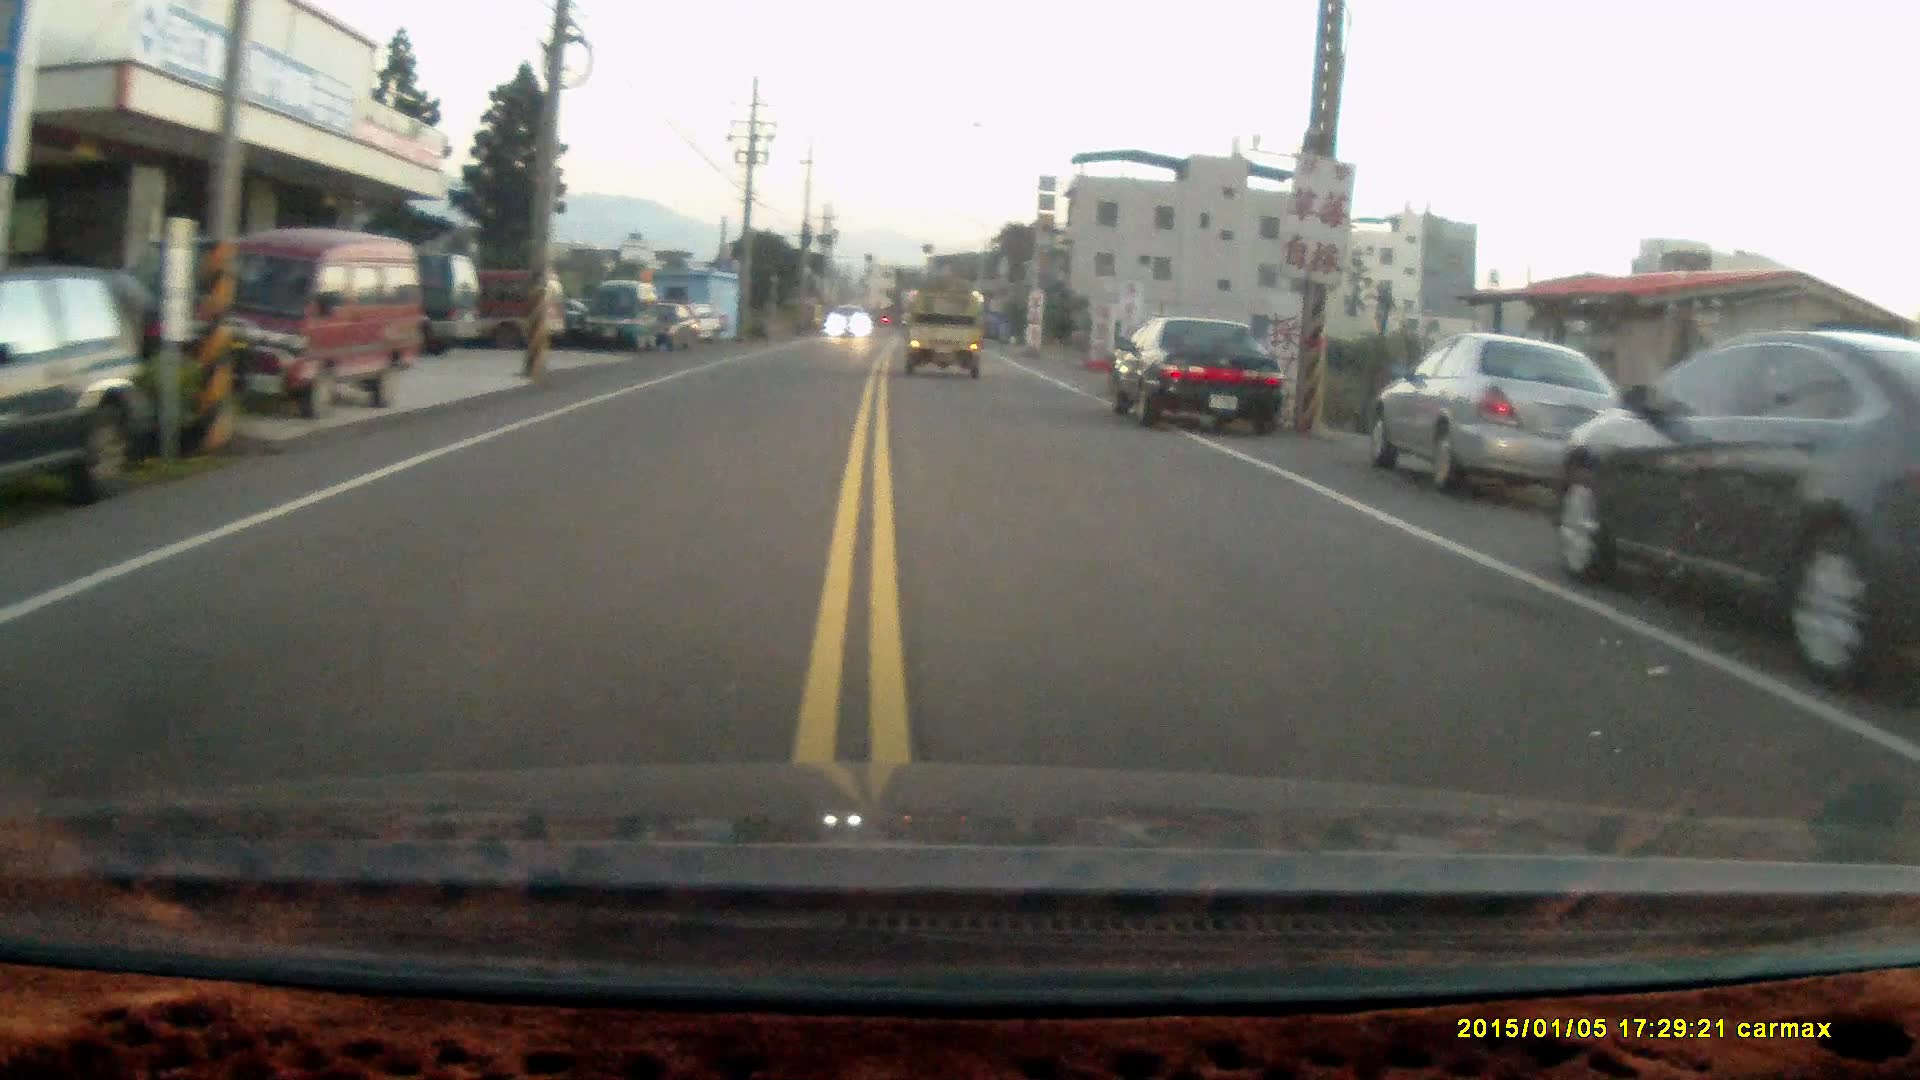vehicle: (1549, 336, 1920, 698), (169, 235, 419, 417), (1374, 336, 1646, 498), (1, 270, 152, 531), (1104, 313, 1284, 440), (282, 247, 488, 356), (401, 268, 566, 349), (910, 294, 993, 384), (584, 284, 661, 357)
